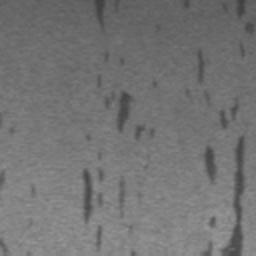Red iron sheet: (82, 74, 156, 247), (184, 50, 246, 256), (236, 0, 255, 60), (92, 0, 122, 29), (105, 50, 125, 65), (0, 237, 9, 256), (0, 168, 5, 187), (182, 0, 191, 9), (31, 186, 36, 197)
